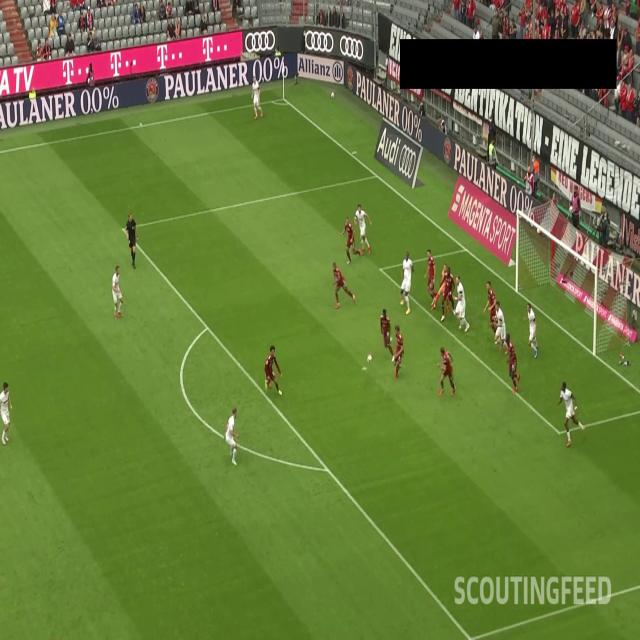ball: (364, 348, 375, 368)
player: (554, 376, 586, 449), (220, 400, 242, 469), (329, 258, 358, 309), (337, 212, 363, 264), (396, 246, 414, 320), (263, 343, 286, 396), (438, 264, 458, 324), (483, 280, 501, 346), (454, 268, 471, 336), (504, 332, 522, 396), (0, 372, 15, 446), (378, 306, 397, 362), (421, 244, 437, 309), (432, 261, 451, 314), (438, 344, 456, 398), (353, 202, 372, 253), (524, 299, 541, 356), (392, 320, 408, 378), (110, 263, 126, 319), (492, 299, 509, 349), (249, 76, 264, 122)
referee: (123, 209, 139, 269)
